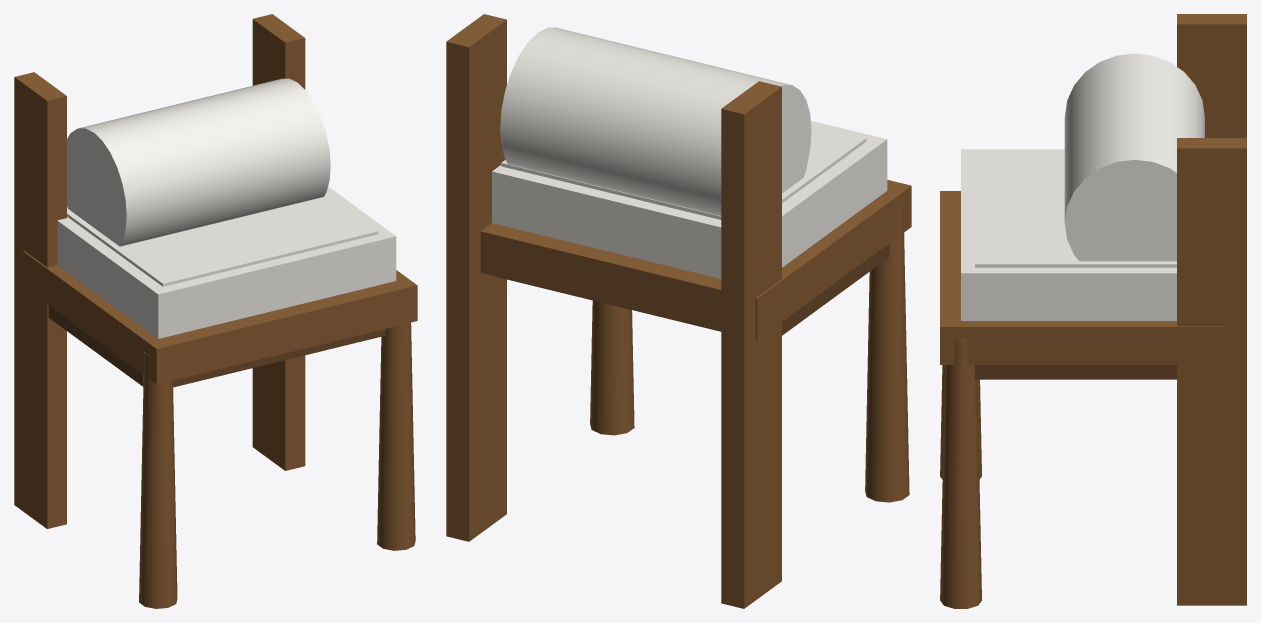
Rendered from ari-chair.glb.
The picture shows the model from 3 angles, left to right: view 1: azimuth 30°, elevation 25°; view 2: azimuth 150°, elevation 25°; view 3: azimuth 270°, elevation 25°; orthographic projection. The views are drawn at different scales.
Visible parts, largest first — view 1: AriDiningChair; view 2: AriDiningChair; view 3: AriDiningChair.
Boxes of the visible parts, x1,y1,x2,y2 form: AriDiningChair: (14,14,417,608); AriDiningChair: (446,14,911,608); AriDiningChair: (940,14,1246,608).
Size of the model in its own units: 0.4761 by 0.72 by 0.438.
